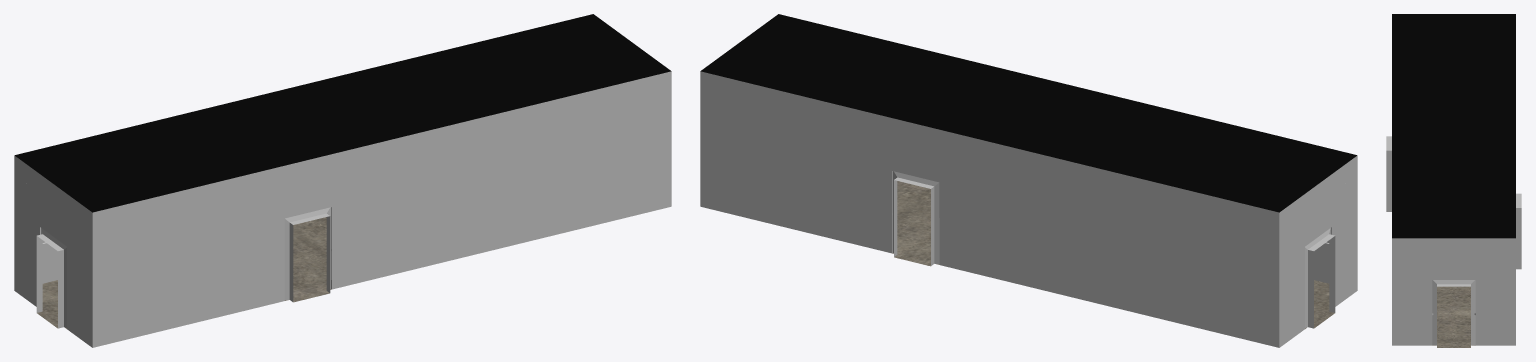
File: hallway4xB.FBX
3 views of the same model, side by side, from view 1: azimuth 30°, elevation 25°; view 2: azimuth 150°, elevation 25°; view 3: azimuth 270°, elevation 25° (orthographic). The views are drawn at different scales.
Visible parts, largest first — view 1: Hall4xB; view 2: Hall4xB; view 3: Hall4xB.
Part boxes in pixels (left/top/right/bottom): Hall4xB: left=14, top=14, right=671, bottom=347; Hall4xB: left=700, top=14, right=1357, bottom=347; Hall4xB: left=1386, top=14, right=1521, bottom=347.
Size of what is drawn, in the model's own units: 1890 by 413 by 472.
